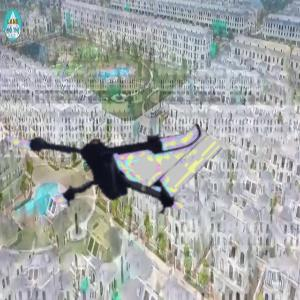drone: (12, 69, 196, 253)
